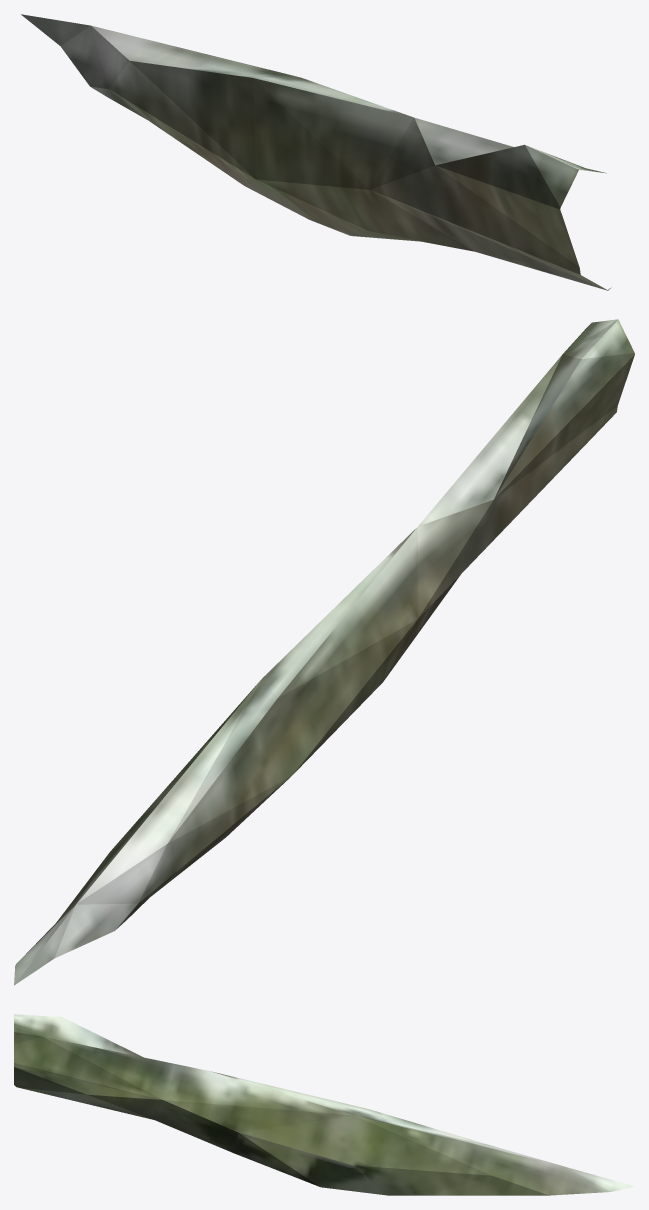
3 renders of one model, top to bottom at view 1: azimuth 30°, elevation 25°; view 2: azimuth 150°, elevation 25°; view 3: azimuth 270°, elevation 25°, orthographic. The views are drawn at different scales.
Bounding box in the file's own units: 0.2926 × 0.7315 × 2.62.
1 material, 1 textured.
